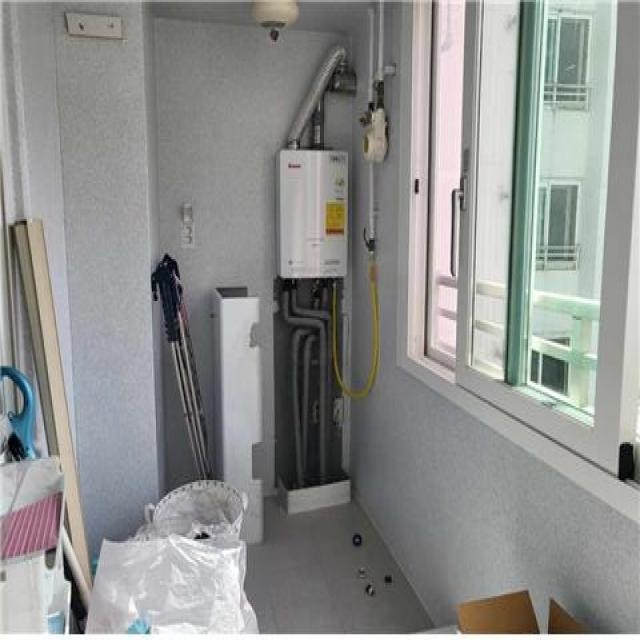Boiler: (250, 119, 364, 309)
